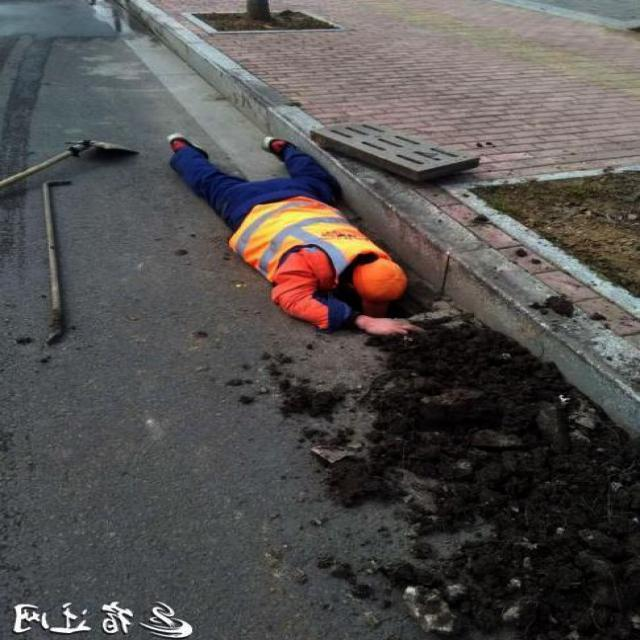fall: (162, 128, 426, 336)
